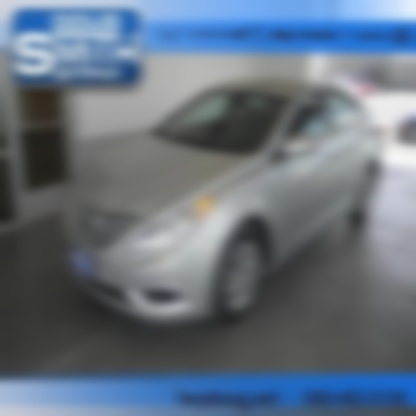Vehicle: (62, 79, 386, 327)
